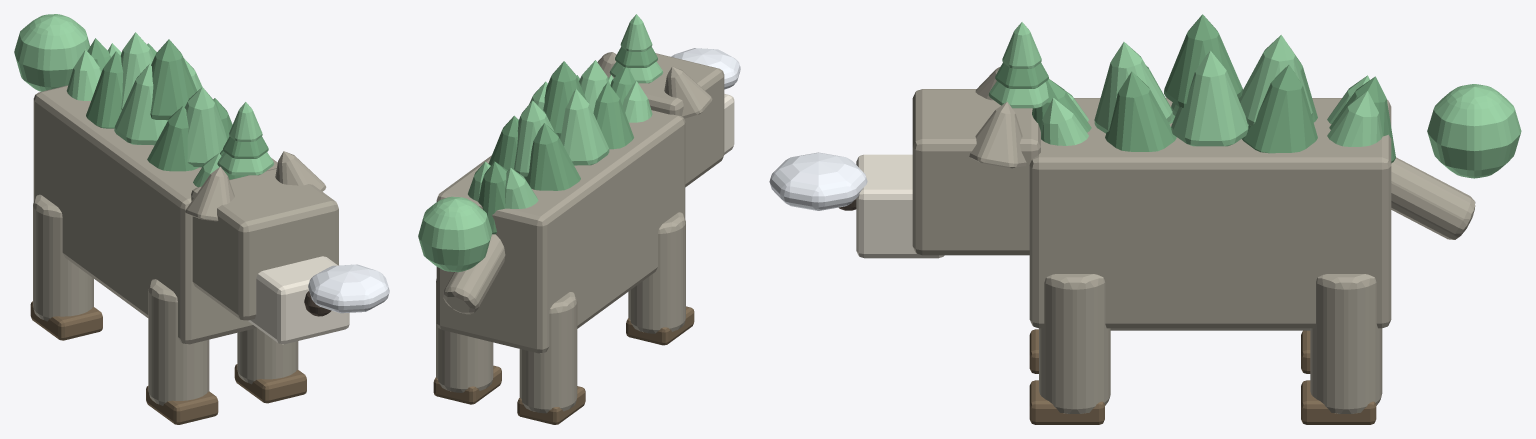
The model's file is wolf_alpha.glb.
The picture shows the model from 3 angles, left to right: view 1: azimuth 30°, elevation 25°; view 2: azimuth 150°, elevation 25°; view 3: azimuth 270°, elevation 25°; orthographic projection. The views are drawn at different scales.
Parts seen in each view (by area): view 1: Body, Head, Leg_FL, Muzzle, Leg_BL, TailTip, Breath, Leg_FR, Mane7, Mane4, Mane6, Mane9 (+13 smaller); view 2: Body, Head, Leg_BL, Leg_FL, TailTip, Leg_BR, Mane6, Mane9, Tail, Mane3, Mane7, Mane10 (+16 smaller); view 3: Body, Head, Leg_BR, Leg_FR, TailTip, Muzzle, Mane8, Breath, Tail, Mane11, Mane5, Mane7 (+12 smaller).
Part boxes in pixels (<box>): Body: <box>33,85,277,344</box>; Head: <box>191,168,338,320</box>; Leg_FL: <box>148,279,209,405</box>; Muzzle: <box>248,256,349,344</box>; Leg_BL: <box>33,194,93,321</box>; TailTip: <box>14,14,90,91</box>; Breath: <box>308,264,389,313</box>; Leg_FR: <box>237,328,298,384</box>; Mane7: <box>150,39,197,120</box>; Mane4: <box>184,87,227,167</box>; Mane6: <box>114,64,167,145</box>; Mane9: <box>86,51,123,128</box>; Body: <box>436,110,685,353</box>; Head: <box>638,53,724,187</box>; Leg_BL: <box>519,292,577,413</box>; Leg_FL: <box>628,212,685,333</box>; TailTip: <box>418,196,492,272</box>; Leg_BR: <box>436,279,493,392</box>; Mane6: <box>559,89,609,165</box>; Mane9: <box>524,123,580,190</box>; Tail: <box>443,234,505,314</box>; Mane3: <box>593,82,633,149</box>; Mane7: <box>543,61,586,136</box>; Mane10: <box>514,100,554,176</box>; Body: <box>1029,98,1391,328</box>; Head: <box>912,89,1040,255</box>; Leg_BR: <box>1310,274,1382,413</box>; Leg_FR: <box>1039,274,1110,413</box>; TailTip: <box>1427,84,1521,178</box>; Muzzle: <box>856,154,944,258</box>; Mane8: <box>1171,51,1248,146</box>; Breath: <box>769,152,867,210</box>; Tail: <box>1391,157,1475,239</box>; Mane11: <box>1242,64,1317,153</box>; Mane5: <box>1105,71,1176,151</box>; Mane7: <box>1164,14,1242,108</box>.
Bounding box in the file's own units: 0.5102 × 1.1 × 2.
